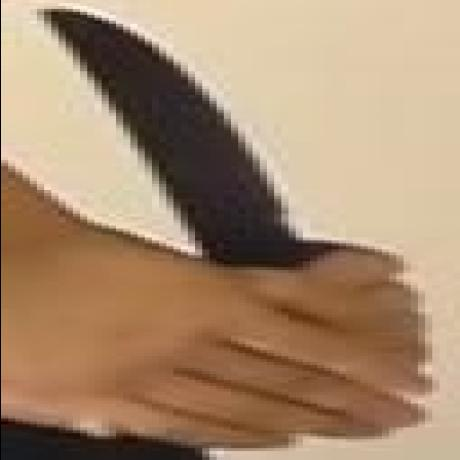1: (0, 160, 423, 451)
weapon: (19, 5, 337, 242)
